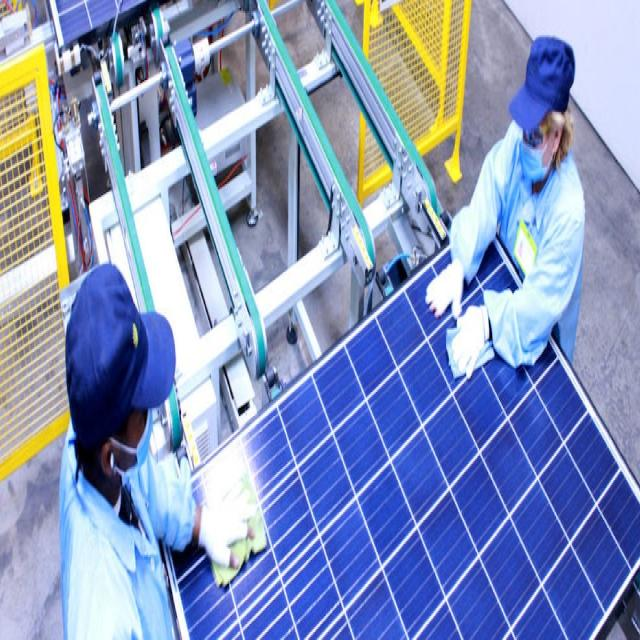clean-solar-panel: (168, 250, 640, 639)
